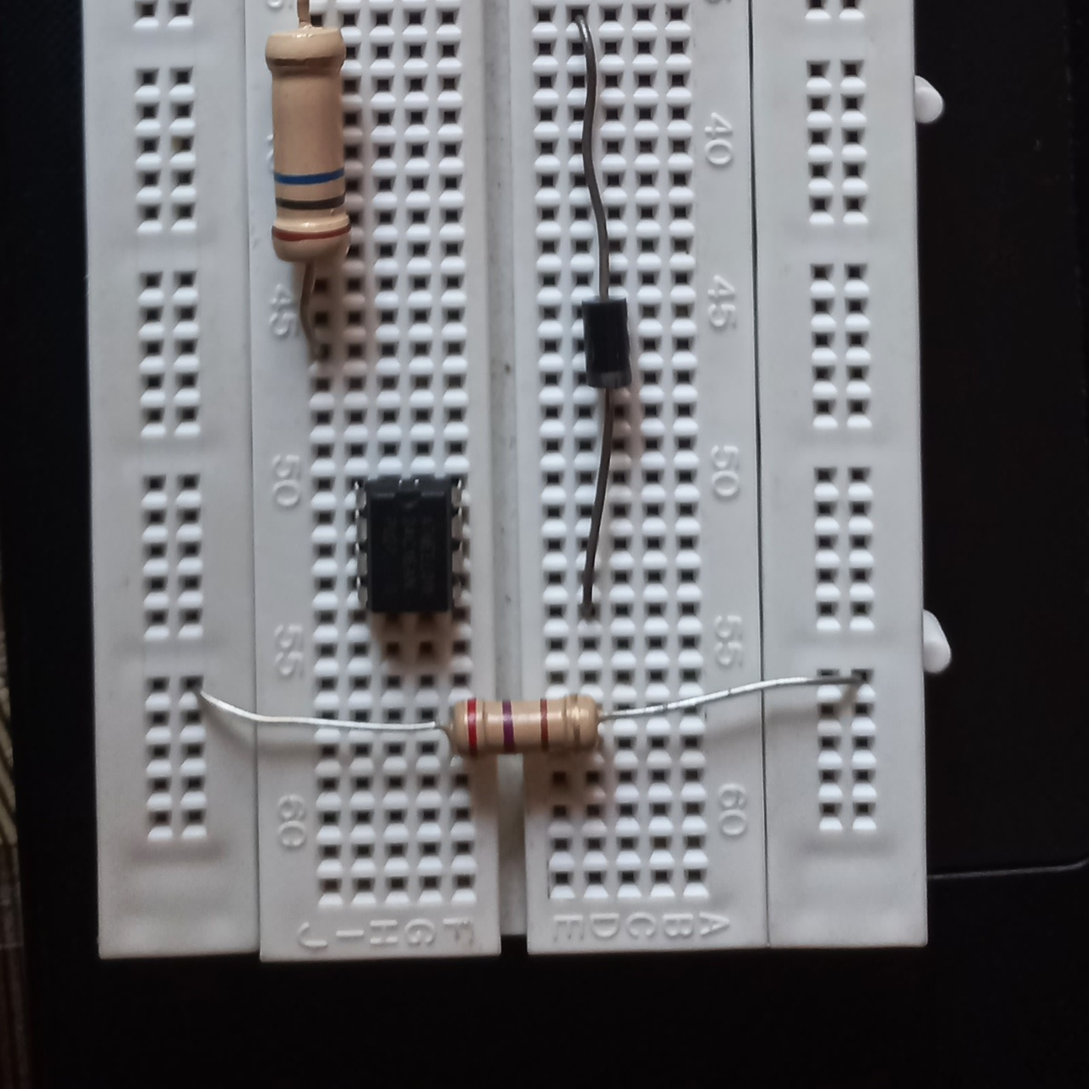resistor: (268, 16, 354, 263), (447, 696, 600, 758)
